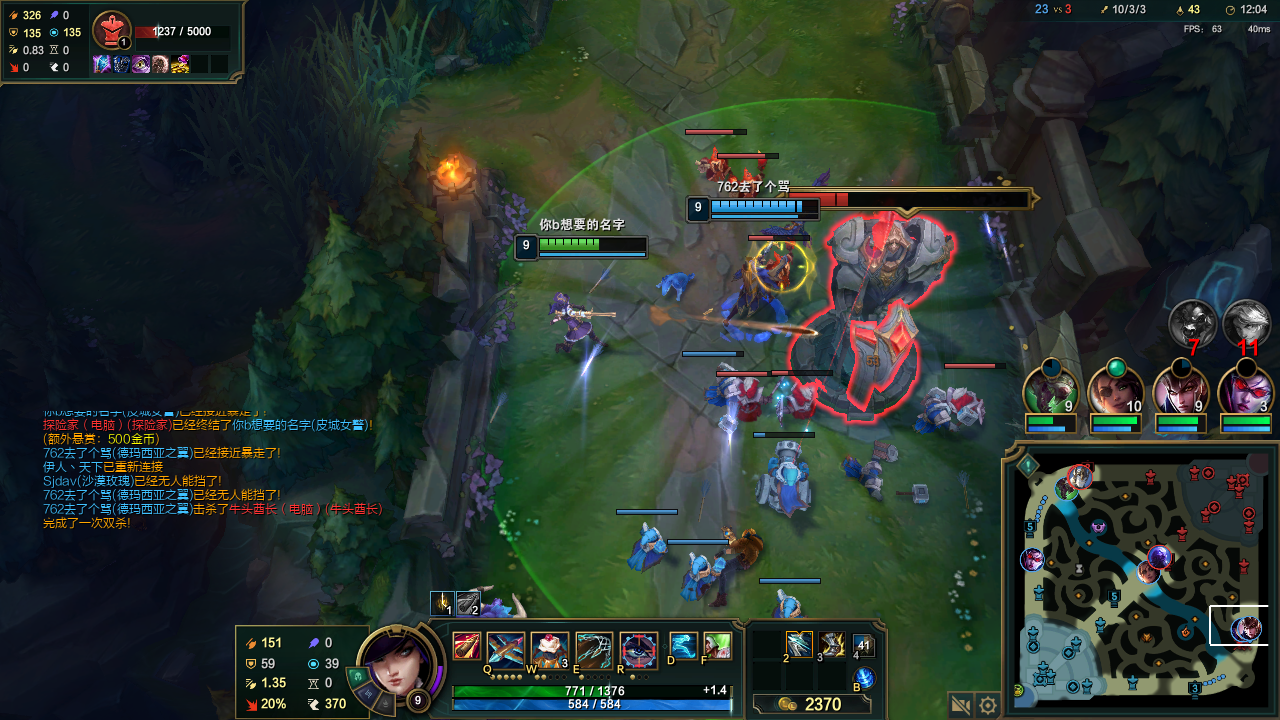DFFYT: (779, 195, 961, 431)
DFXB: (944, 385, 980, 423), (780, 382, 815, 419), (733, 378, 763, 416), (762, 254, 796, 285), (697, 139, 726, 175), (735, 169, 766, 197)
KF: (786, 633, 811, 658)
WFXB: (753, 452, 823, 515), (626, 525, 669, 577), (686, 555, 728, 601), (709, 363, 743, 403), (919, 396, 952, 432), (768, 591, 799, 612)
